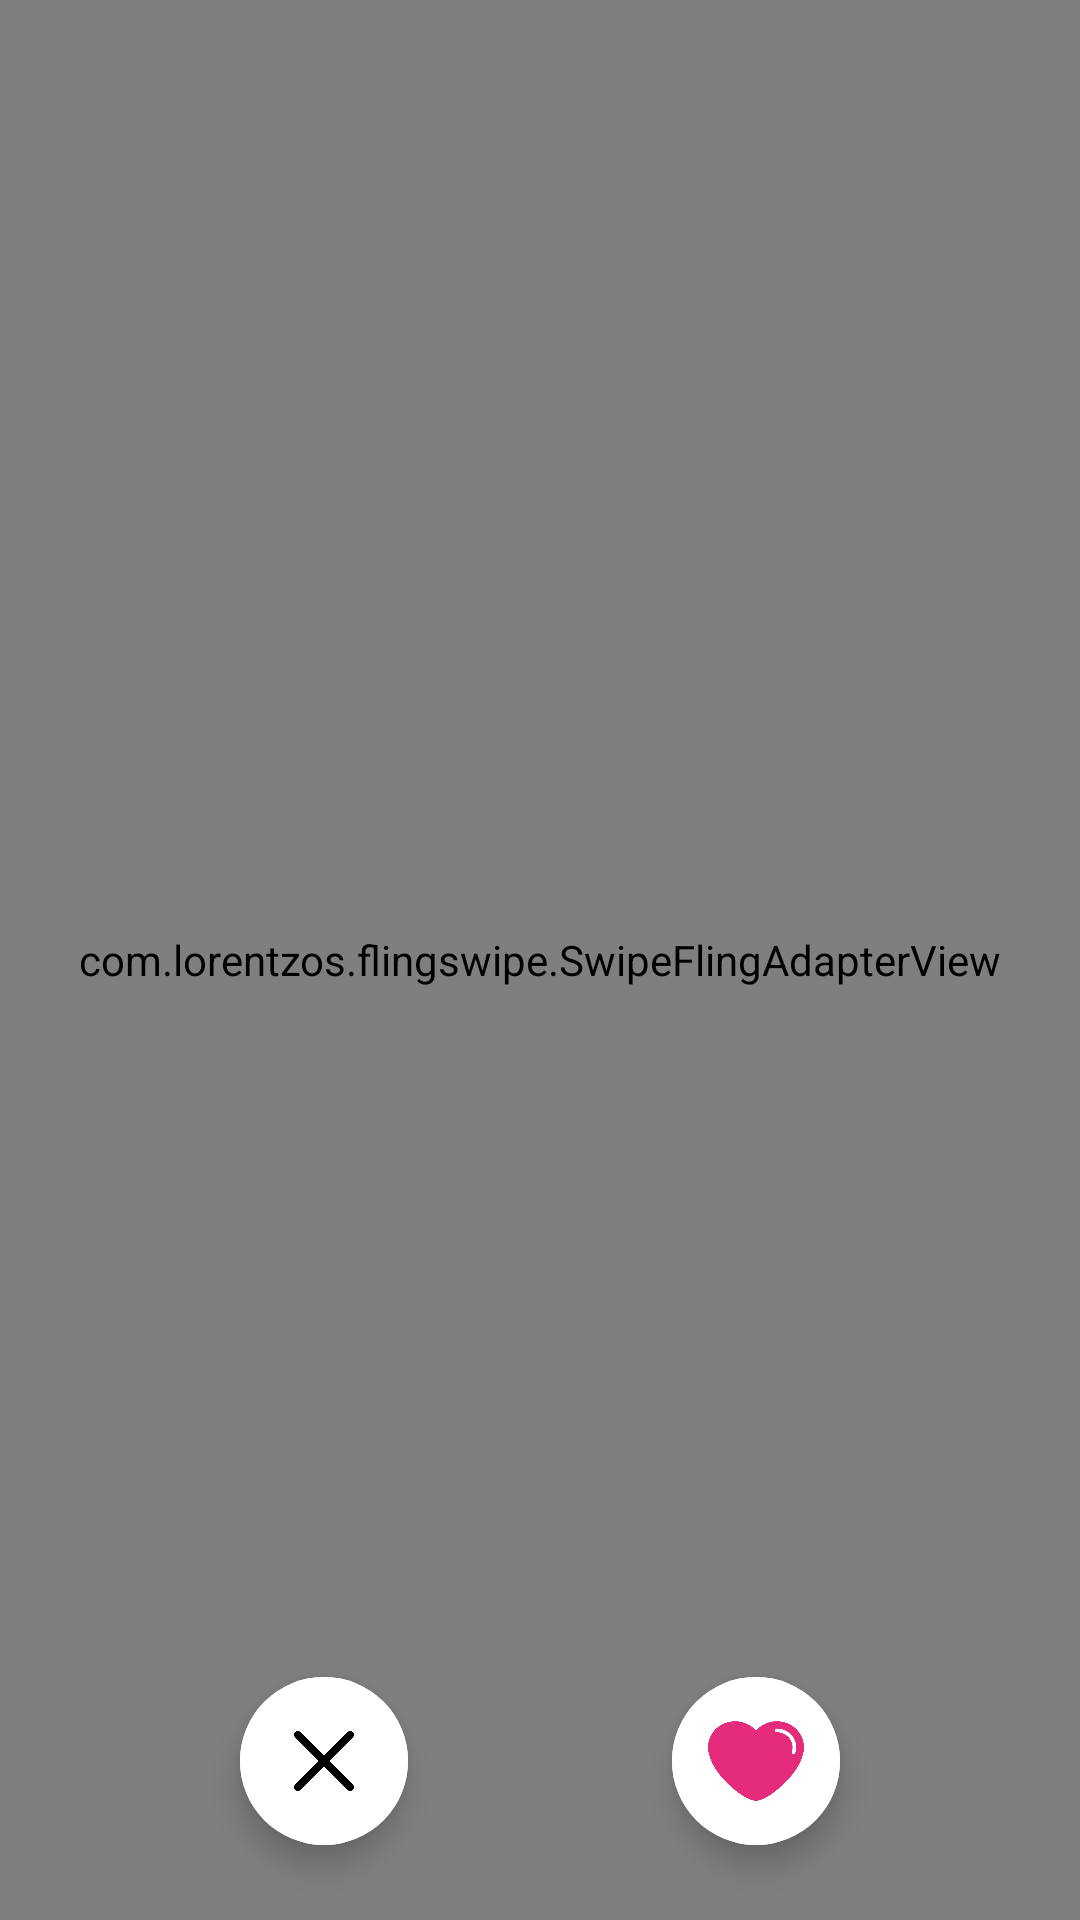

Point at icon controls on the screen. Image size 1080 x 1920, points as [x,y].
dislike: [324,1761]
like: [756,1761]
